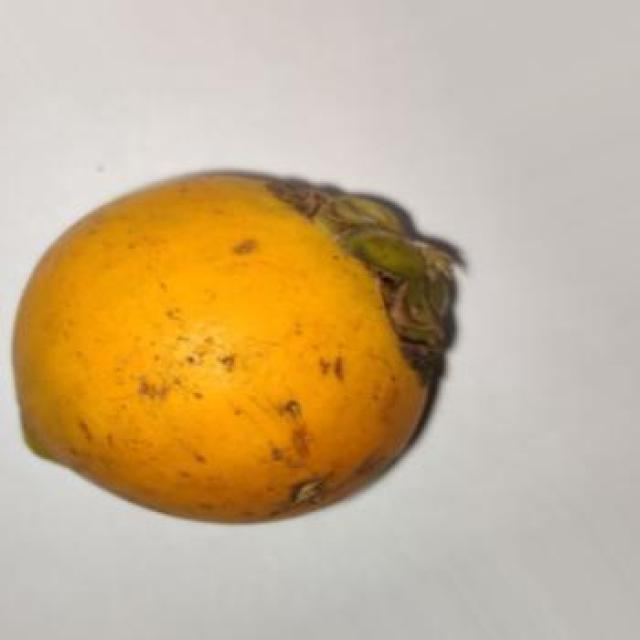good: (11, 172, 463, 528)
